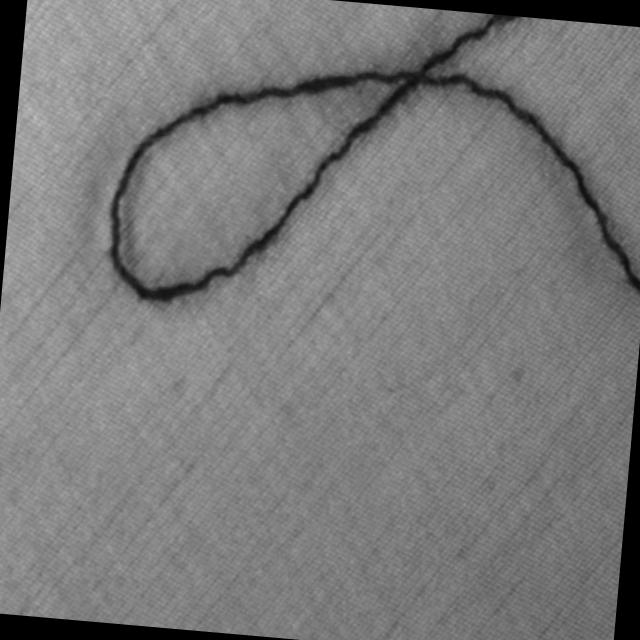Thread: (97, 0, 640, 351)
